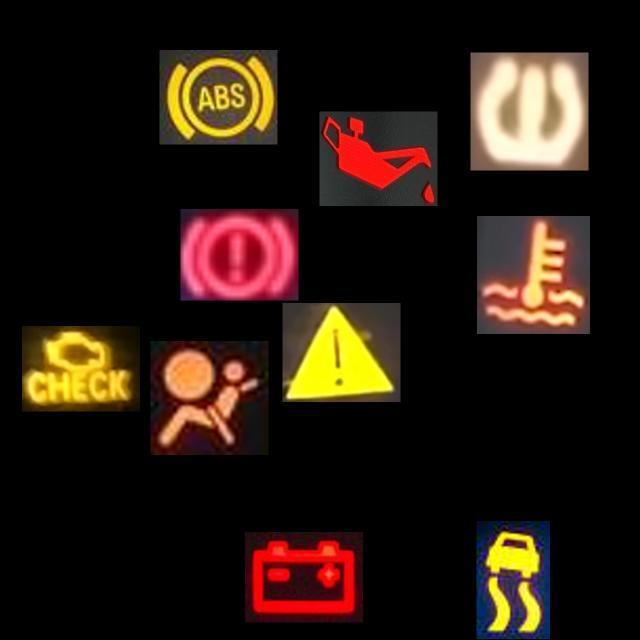Central Warning lamp: (282, 303, 400, 402)
Engine cooling system: (477, 216, 590, 334)
